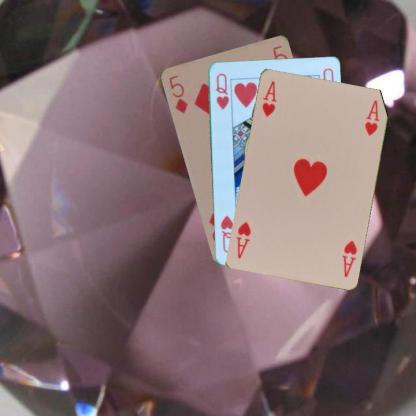5d: (166, 72, 189, 115)
Ah: (339, 238, 358, 278), (260, 78, 278, 118)
Qh: (212, 70, 231, 110)
